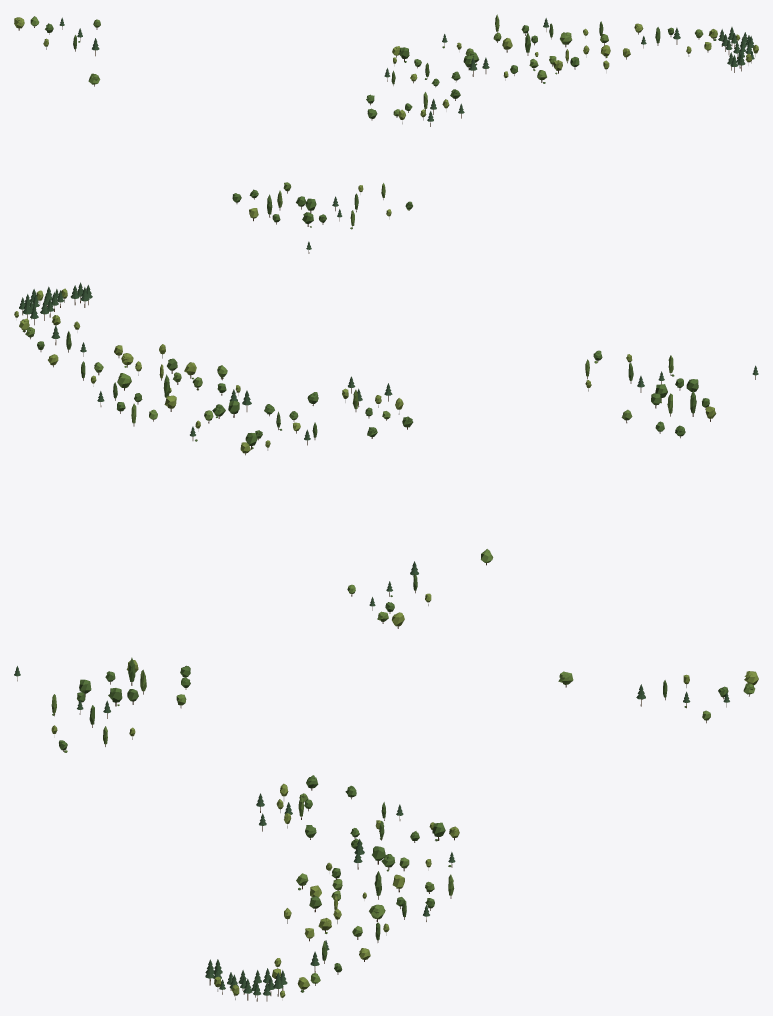
File: Natura_3_1.fbx
3 views of the same model, one above another, from view 1: azimuth 30°, elevation 25°; view 2: azimuth 150°, elevation 25°; view 3: azimuth 270°, elevation 25° (orthographic). The views are drawn at different scales.
Size of the model in its own units: 468 by 19.24 by 447.
